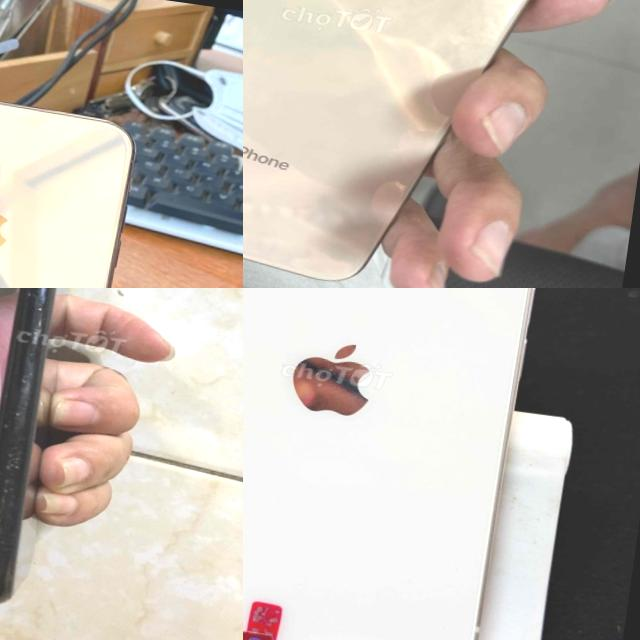scratch: (0, 439, 29, 477), (22, 292, 50, 326), (0, 479, 21, 508), (8, 402, 26, 426), (0, 509, 15, 529), (0, 552, 11, 572), (0, 536, 7, 554)
